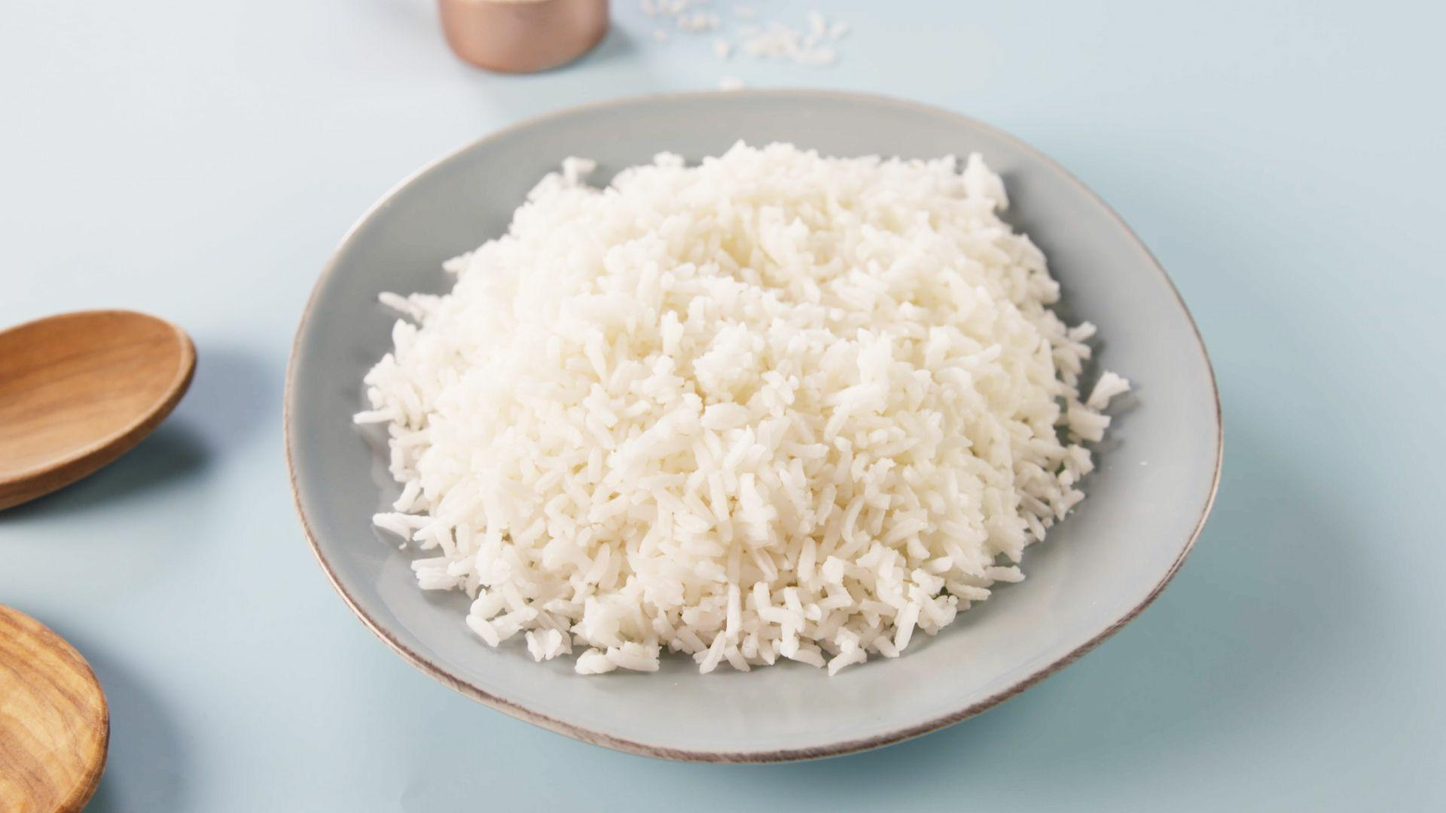WhiteRice: (345, 132, 1132, 664)
